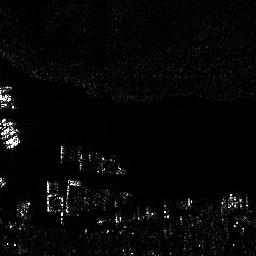ship: (2, 134, 21, 149)
